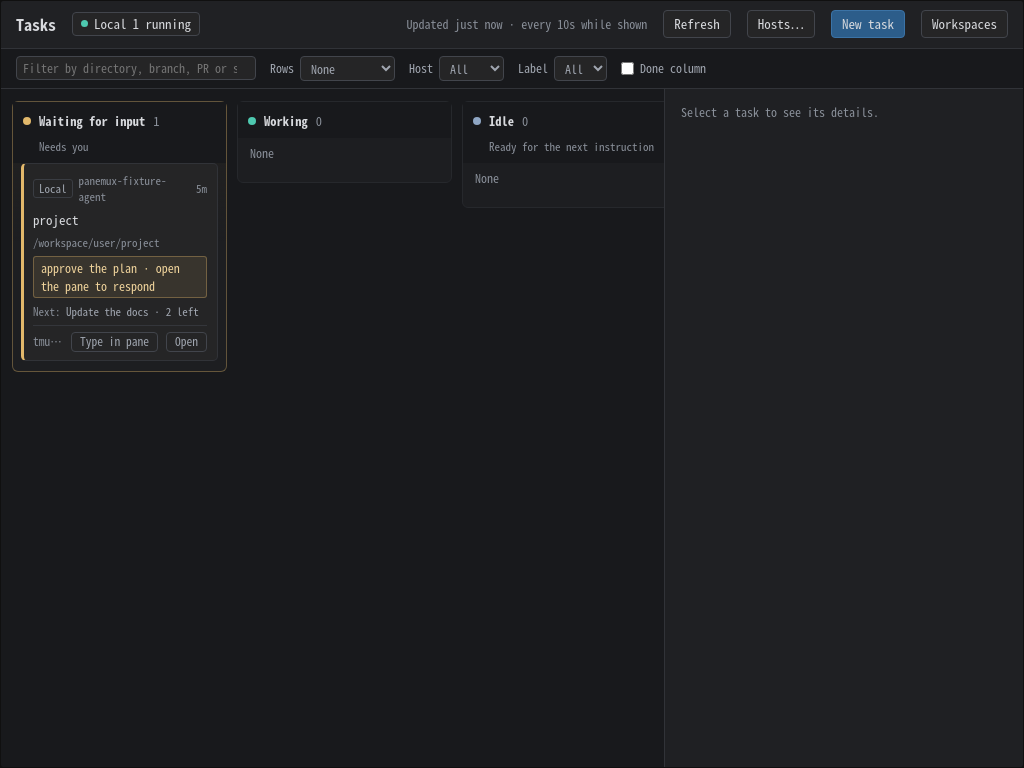
Test: TaskDashboard with the fixture agent › shows its summary and what comes next
Click the element that starts with "Local". click: (120, 262)
box: 21,163 -> 218,361
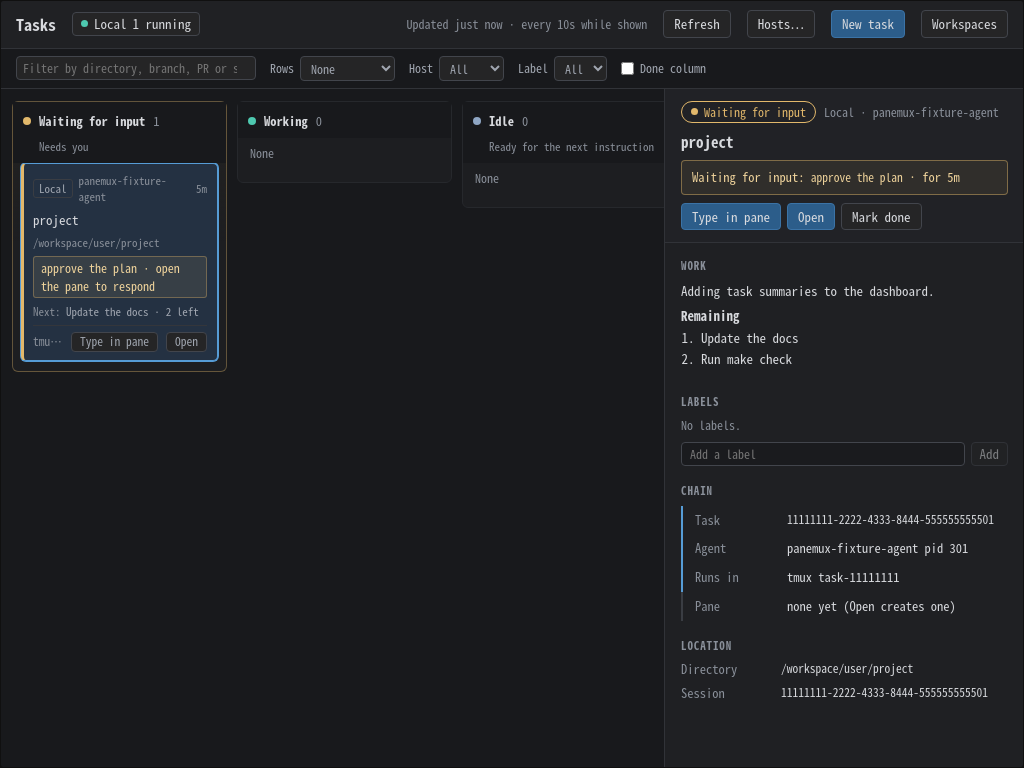
Now the element "Work" shows "Adding task summaries to the dashboard.", box 681,281 -> 934,300
Now the element "Work" shows "Update the docs", box 701,328 -> 798,347
Now the element "Work" shows "Run make check", box 701,349 -> 792,368
